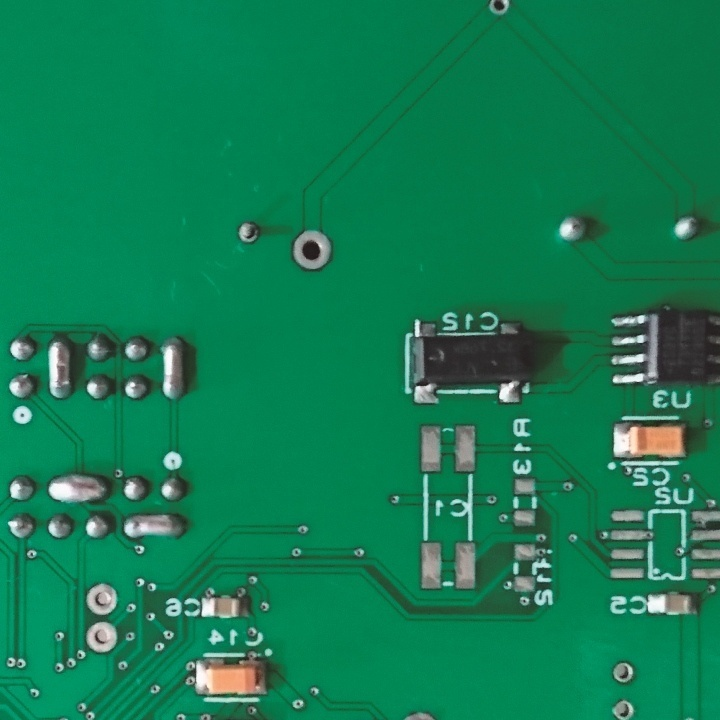F: (288, 226, 335, 275), (85, 580, 121, 617), (86, 618, 118, 656), (608, 659, 636, 689), (608, 694, 638, 720), (485, 1, 519, 22), (235, 219, 259, 245)
P: (120, 509, 189, 543), (46, 469, 113, 504), (42, 332, 72, 401), (158, 334, 187, 404)
